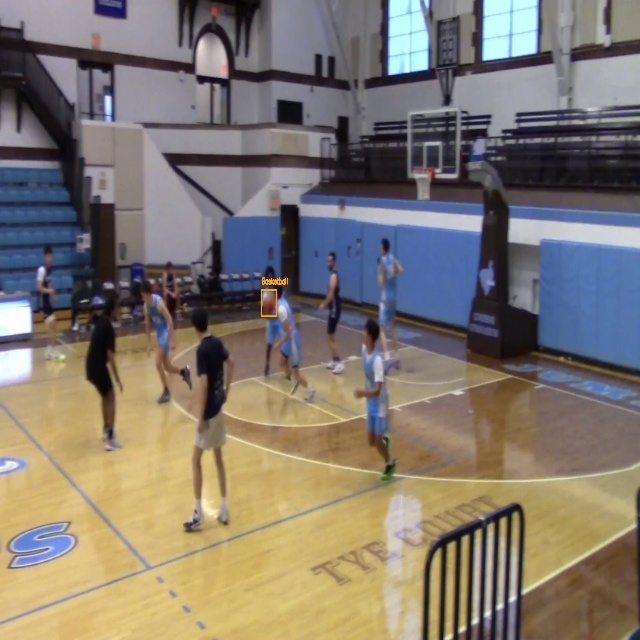Basketball: (261, 290, 277, 316)
